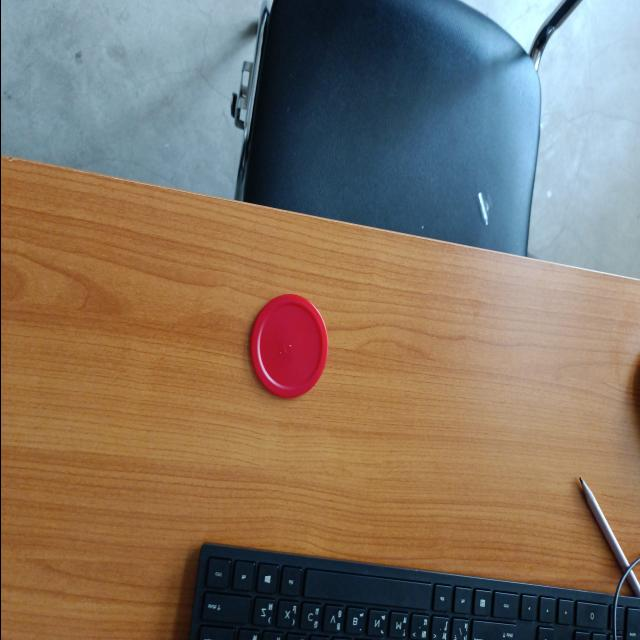chip: (249, 292, 329, 399)
